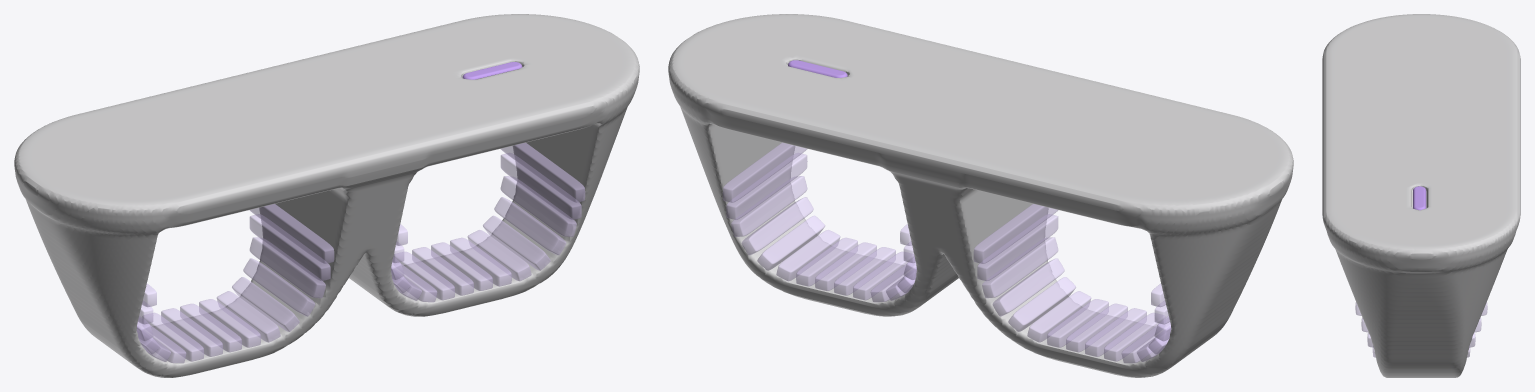
File: p03-echo-ring.glb
3 views of the same model, side by side, from view 1: azimuth 30°, elevation 25°; view 2: azimuth 150°, elevation 25°; view 3: azimuth 270°, elevation 25° (orthographic). The views are drawn at different scales.
Visible parts, largest first — view 1: plate, band; view 2: plate, band; view 3: plate, band, led.
Part boxes in pixels (box(x1,y1,x2,y2)): plate: box(14, 14, 639, 377); band: box(136, 142, 585, 363); plate: box(668, 14, 1293, 377); band: box(722, 142, 1171, 363); plate: box(1322, 14, 1520, 377); band: box(1355, 302, 1487, 357); led: box(1413, 186, 1426, 210).
Bounding box in the file's own units: 0.0596 × 0.0205 × 0.0209.
